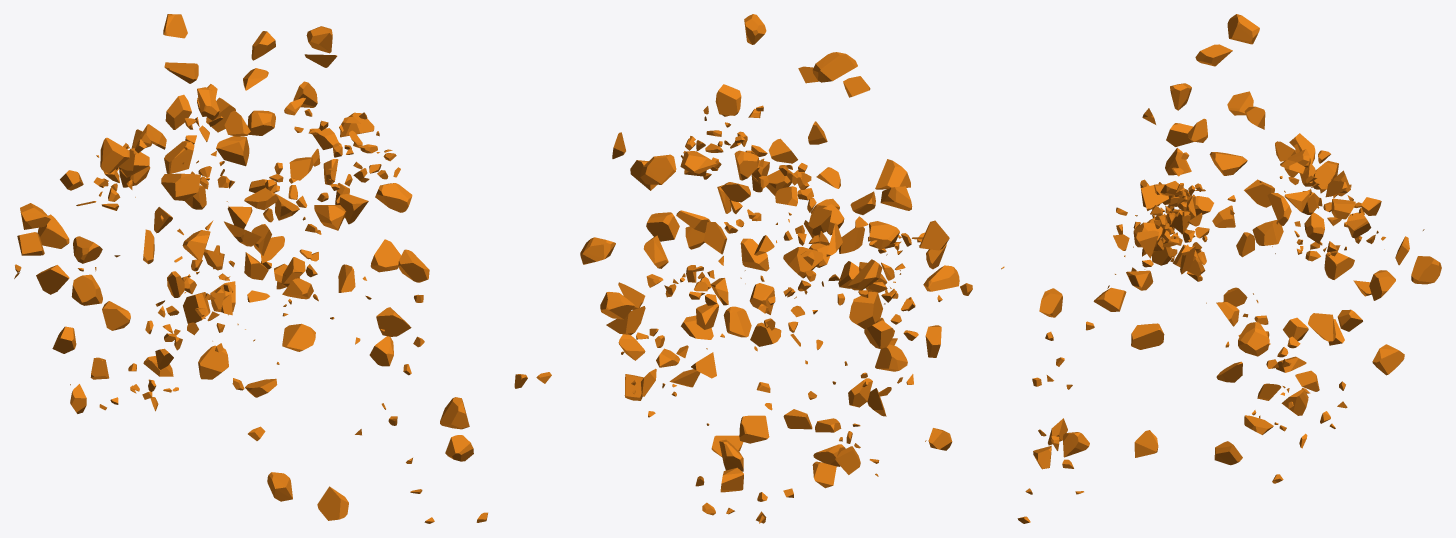
Rendered from Explode_Cube.f0010.glb.
The picture shows the model from 3 angles, left to right: view 1: azimuth 30°, elevation 25°; view 2: azimuth 150°, elevation 25°; view 3: azimuth 270°, elevation 25°; orthographic projection. The views are drawn at different scales.
Parts seen in each view (by area): view 1: Cube.125_cell.081, Cube.125_cell.004, Cube.125_cell.085, Cube.125_cell.012, Cube.125_cell.013, Cube.125_cell.052, Cube.125_cell.079, Cube.125_cell.087, Cube.125_cell.025, Cube.125_cell.006, Cube.125_cell.056, Cube.125_cell.041 (+5 smaller); view 2: Cube.125_cell.003, Cube.125_cell.033, Cube.125_cell.093, Cube.125_cell.014, Cube.125_cell.070, Cube.125_cell.081, Cube.125_cell.013, Cube.125_cell.041, Cube.125_cell.085, Cube.125_cell.075, Cube.125_cell.050, Cube.125_cell.008 (+25 smaller); view 3: Cube.125_cell.085, Cube.125_cell.056, Cube.125_cell.003, Cube.125_cell.070, Cube.125_cell.026, Cube.125_cell.004, Cube.125_cell.075, Cube.125_cell.020, Cube.125_cell.023, Cube.125_cell.038, Cube.125_cell.013, Cube.125_cell.079 (+3 smaller).
Part boxes in pixels (box(x1,y1,x2,y2)): Cube.125_cell.081: box(161, 173, 200, 200); Cube.125_cell.004: box(71, 274, 102, 305); Cube.125_cell.085: box(375, 183, 412, 212); Cube.125_cell.012: box(198, 345, 228, 379); Cube.125_cell.013: box(216, 136, 249, 166); Cube.125_cell.052: box(317, 486, 348, 520); Cube.125_cell.079: box(282, 323, 315, 351); Cube.125_cell.087: box(100, 137, 129, 173); Cube.125_cell.025: box(164, 141, 194, 173); Cube.125_cell.006: box(370, 239, 401, 272); Cube.125_cell.056: box(398, 249, 429, 282); Cube.125_cell.041: box(440, 397, 469, 429); Cube.125_cell.003: box(812, 52, 857, 82); Cube.125_cell.033: box(849, 291, 882, 328); Cube.125_cell.093: box(640, 154, 676, 184); Cube.125_cell.014: box(646, 212, 679, 241); Cube.125_cell.070: box(739, 415, 769, 443); Cube.125_cell.081: box(875, 159, 910, 189); Cube.125_cell.013: box(600, 292, 634, 319); Cube.125_cell.041: box(723, 306, 751, 337); Cube.125_cell.085: box(580, 237, 615, 264); Cube.125_cell.075: box(923, 265, 959, 291); Cube.125_cell.050: box(783, 247, 823, 278); Cube.125_cell.008: box(715, 84, 741, 115); Cube.125_cell.085: box(1238, 322, 1269, 356); Cube.125_cell.056: box(1131, 323, 1164, 349); Cube.125_cell.003: box(1227, 14, 1259, 44); Cube.125_cell.070: box(1411, 256, 1441, 284); Cube.125_cell.026: box(1372, 344, 1404, 375); Cube.125_cell.004: box(1252, 220, 1283, 245); Cube.125_cell.075: box(1209, 152, 1247, 175); Cube.125_cell.020: box(1308, 313, 1335, 341); Cube.125_cell.023: box(1324, 252, 1354, 279); Cube.125_cell.038: box(1039, 288, 1062, 317); Cube.125_cell.013: box(1369, 270, 1395, 300); Cube.125_cell.079: box(1093, 287, 1126, 311).
Bounding box in the file's own units: 5.89 × 6.55 × 6.2.
